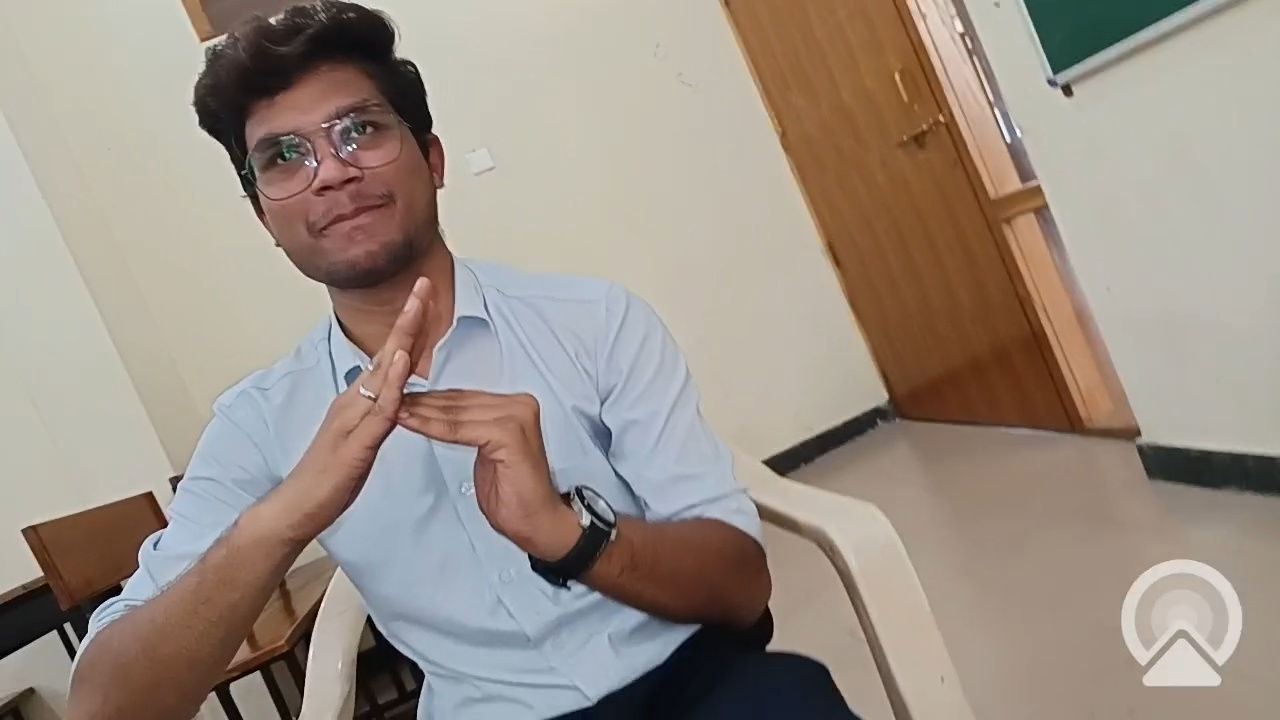Z: (253, 265, 594, 610)
